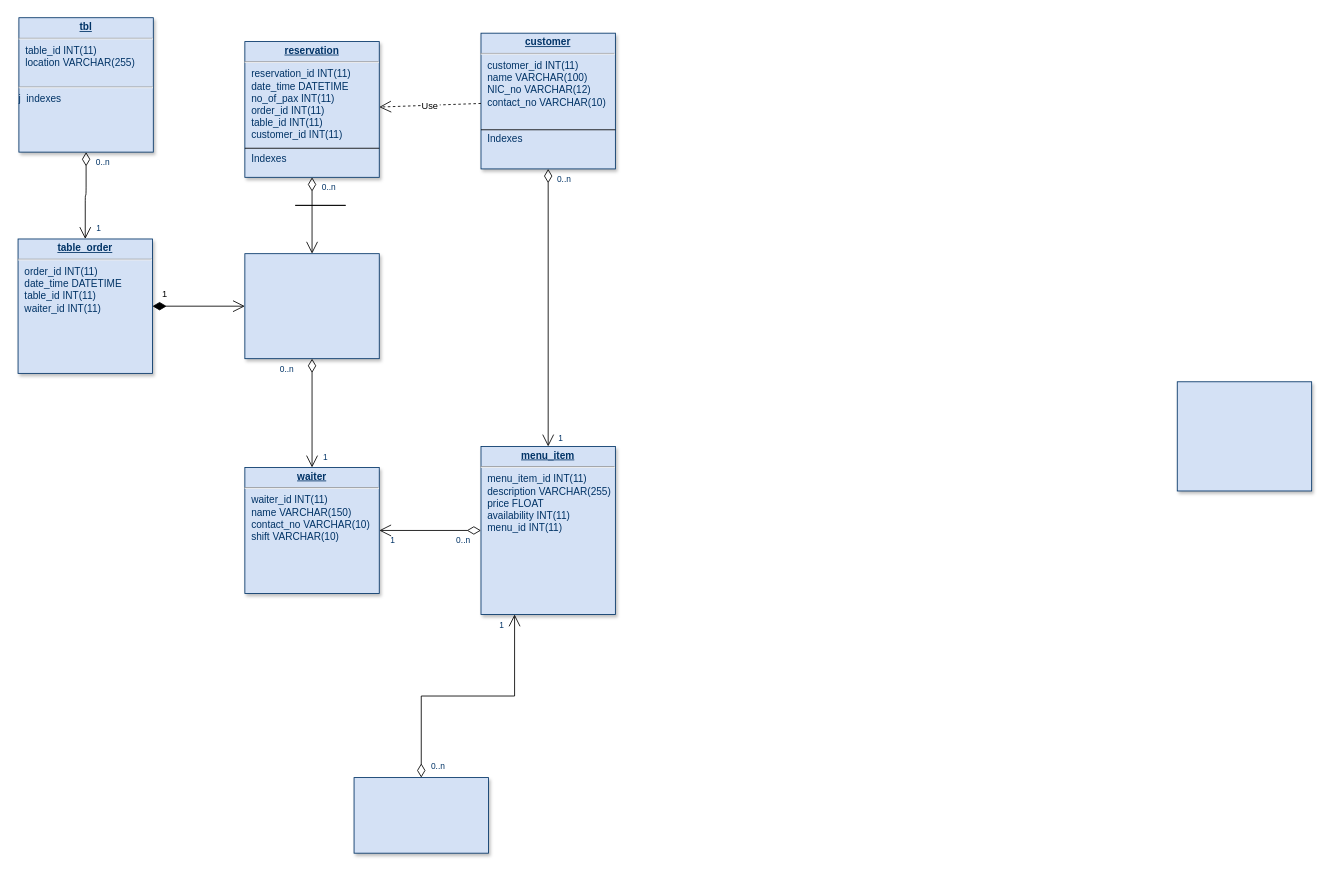
Image size: 1331x874. Some labels were removed from this diagram. Each missing label, with the centre of its shape:
"menu menu_id INT(11) description VARCHAR(255) availability INT(11)" goes at pixel 422 816.
"order_menu_item order_id INT(11) menu_item_id INT(11) quantity INT(11)" goes at pixel 312 307.
"TimeCategory IdTimeCategory Name Description CreatedAt UpdatedAt Enabled" goes at pixel 1245 437.
